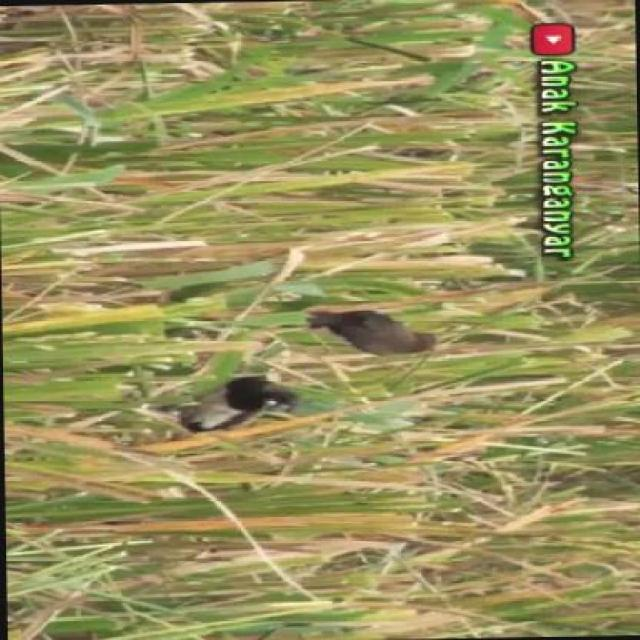Bird: (139, 359, 294, 453), (299, 294, 456, 379)
